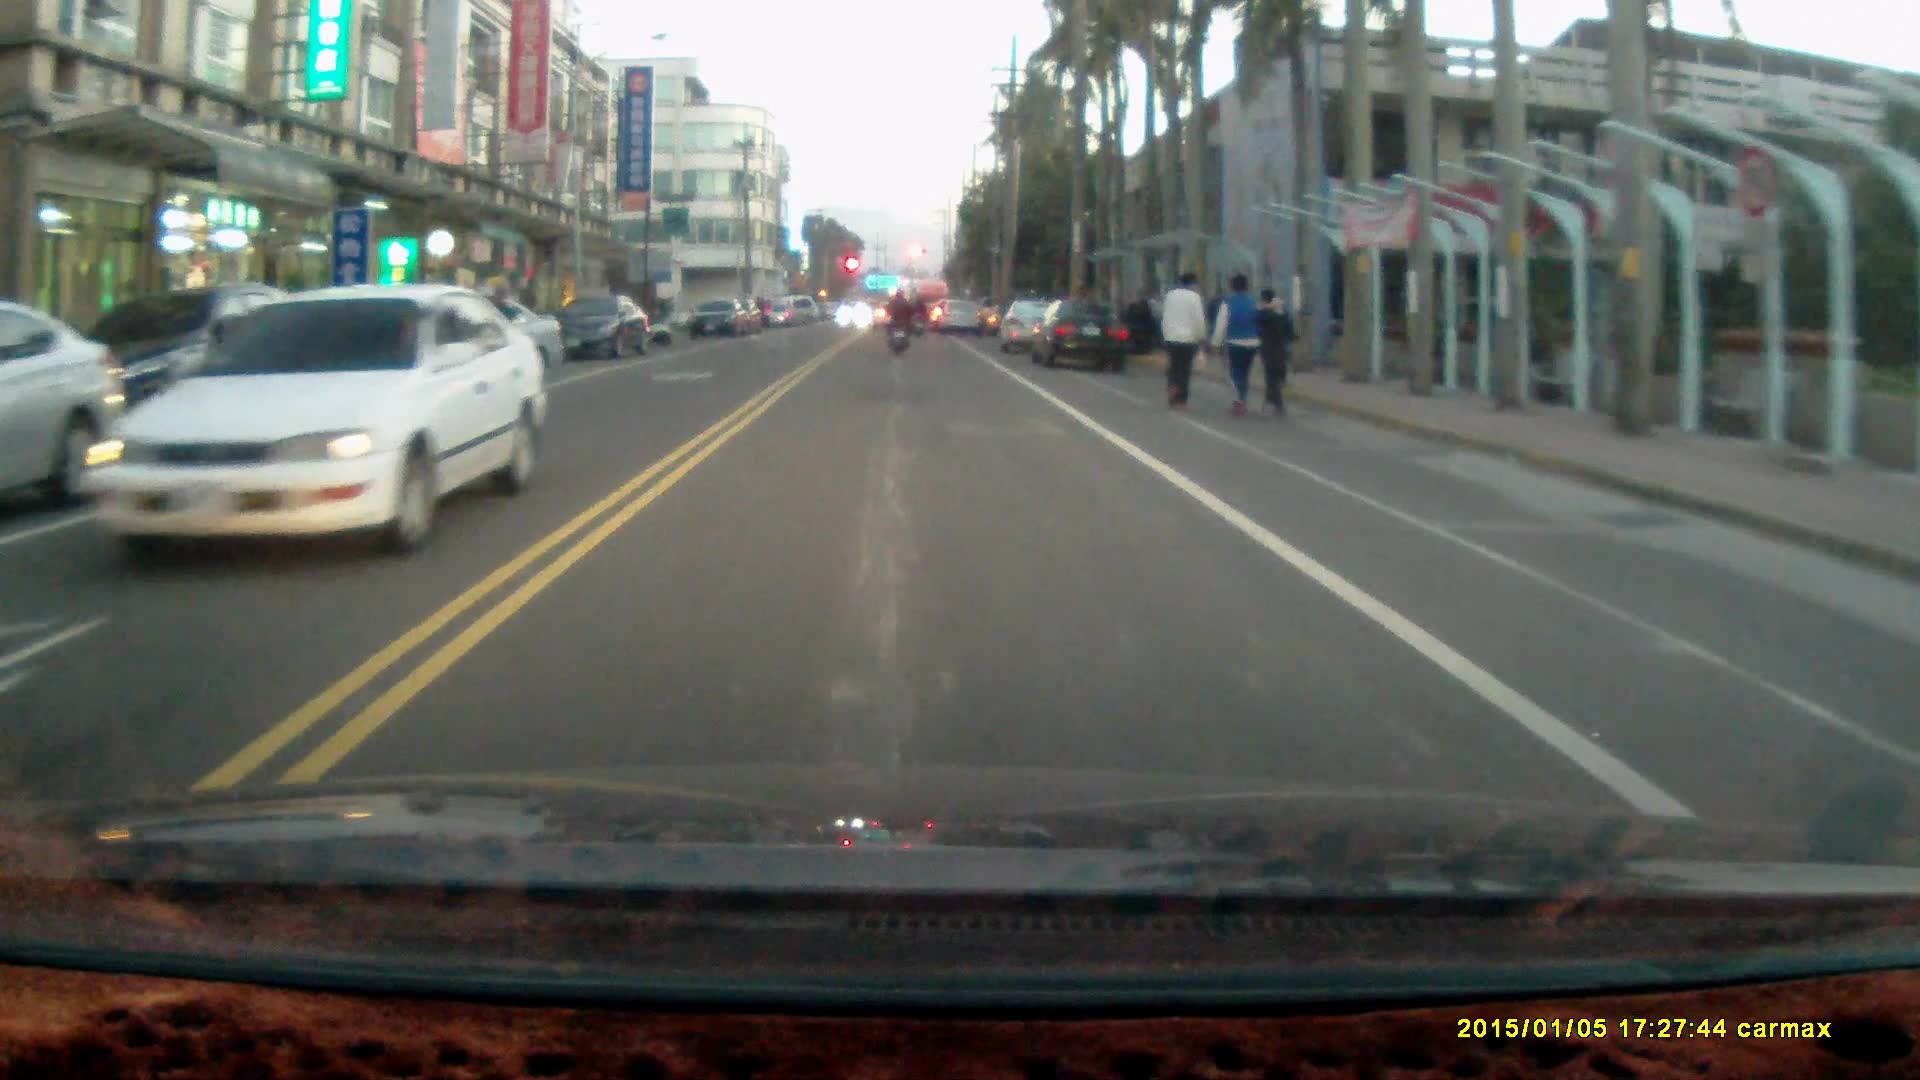pedestrian: (1210, 268, 1260, 416), (1156, 266, 1205, 415), (1251, 283, 1295, 420)
rider: (884, 285, 915, 356)
vehicle: (67, 286, 539, 562), (68, 278, 294, 440), (1, 297, 130, 513), (1037, 298, 1132, 372), (551, 292, 646, 364), (1000, 299, 1088, 359), (689, 299, 753, 341)
